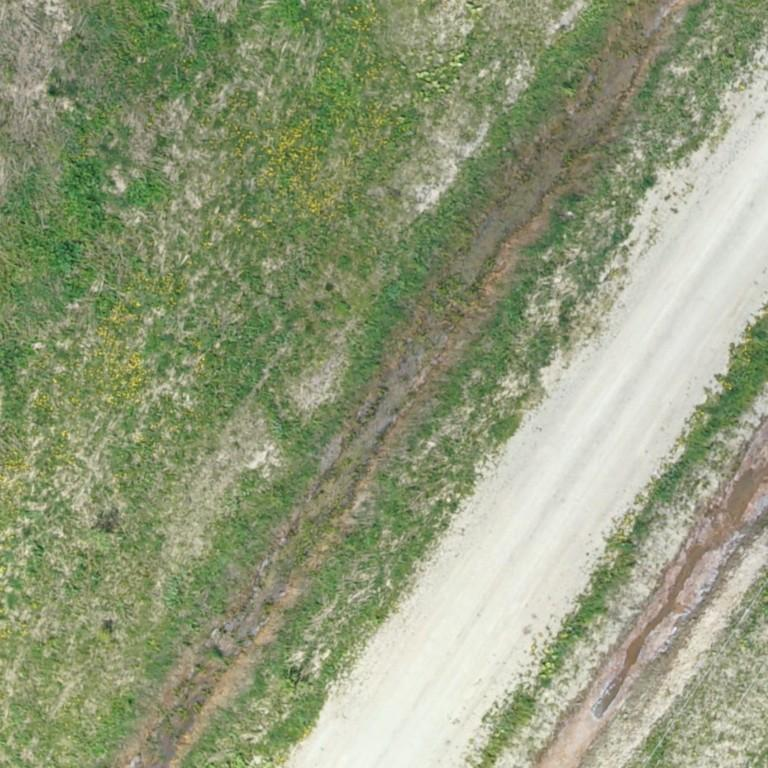hogweed: (58, 157, 117, 231), (126, 169, 167, 203), (51, 241, 85, 271), (144, 6, 168, 46), (193, 12, 216, 46)
